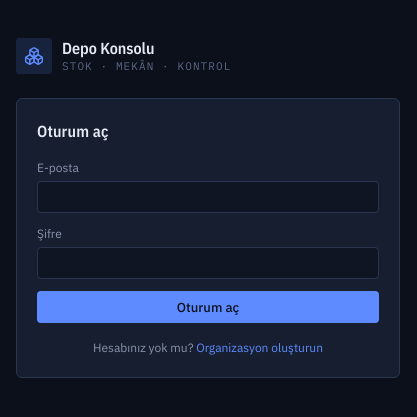
Test: LoginPage › validates inputs before submitting
The width and height of the screenshot is (417, 417).
Click the button "Oturum aç" at (208, 307), box [37,291,379,323]
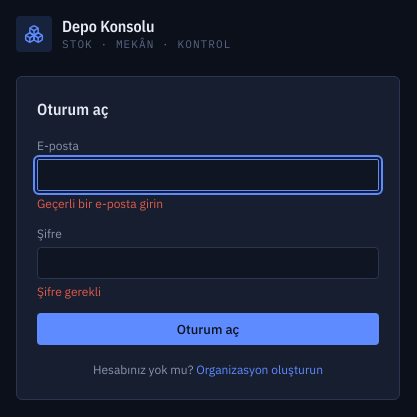
Check: the text "Geçerli bir e-posta girin" is shown, box [37,196,163,211]
Check: the text "Şifre gerekli" is shown, box [37,284,101,299]
